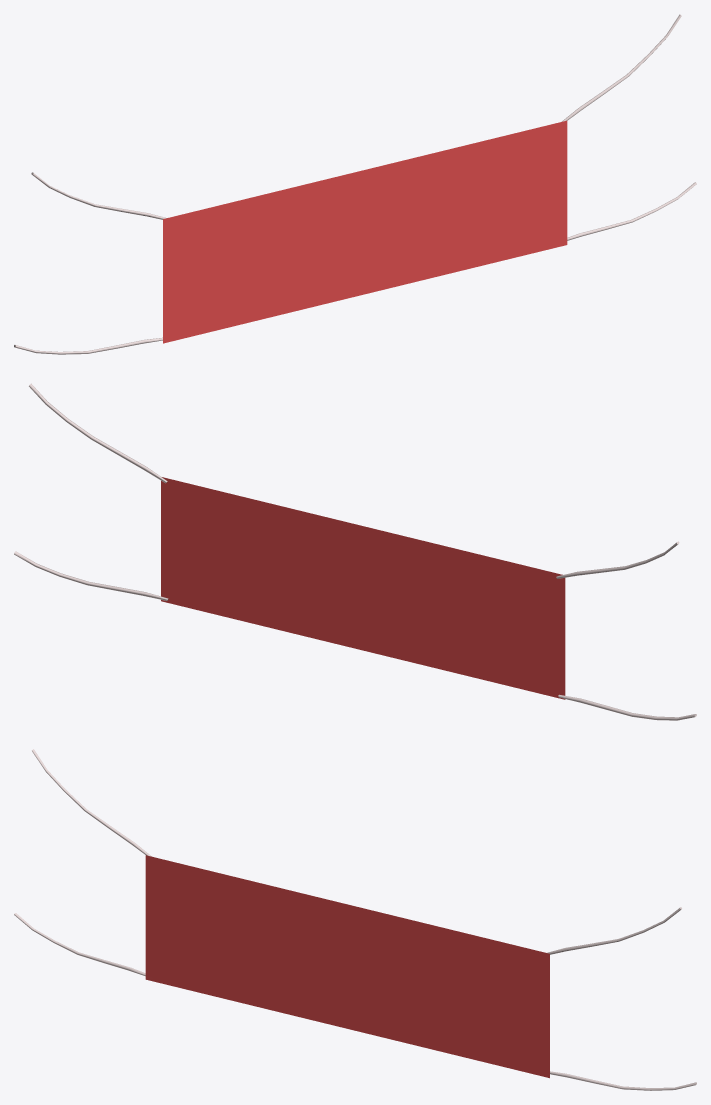
The model's file is FlyBanner02.fbx.
The picture shows the model from 3 angles, top to bottom: view 1: azimuth 30°, elevation 25°; view 2: azimuth 150°, elevation 25°; view 3: azimuth 330°, elevation 25°; orthographic projection.
Visible parts, largest first — view 1: Plane01; view 2: Plane01; view 3: Plane01.
Boxes of the visible parts, left/top/right/bottom form: Plane01: left=14, top=14, right=696, bottom=354; Plane01: left=14, top=383, right=696, bottom=720; Plane01: left=14, top=749, right=696, bottom=1090.
Size of the model in its own units: 88.28 by 2.25 by 24.05.
